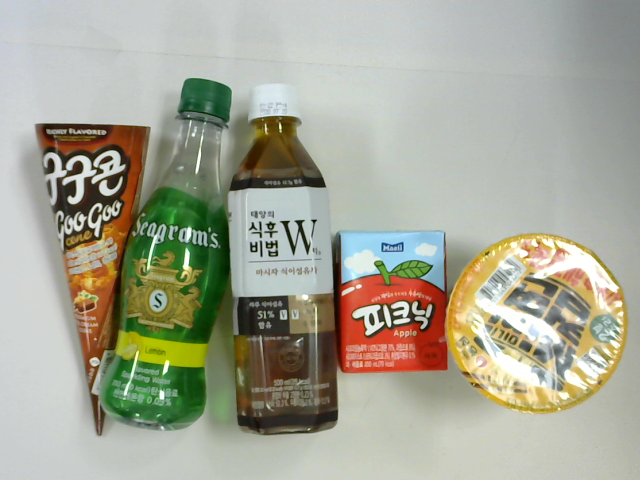GooGoo_Cone_CVS: (27, 122, 152, 438)
Hejangmini: (446, 236, 623, 413)
Picnic_Apple: (333, 224, 449, 377)
Post-meal_recipe_W_tea_500ml: (229, 86, 345, 438)
Seagram_Lemon_Carbonated_Water: (99, 77, 225, 433)
